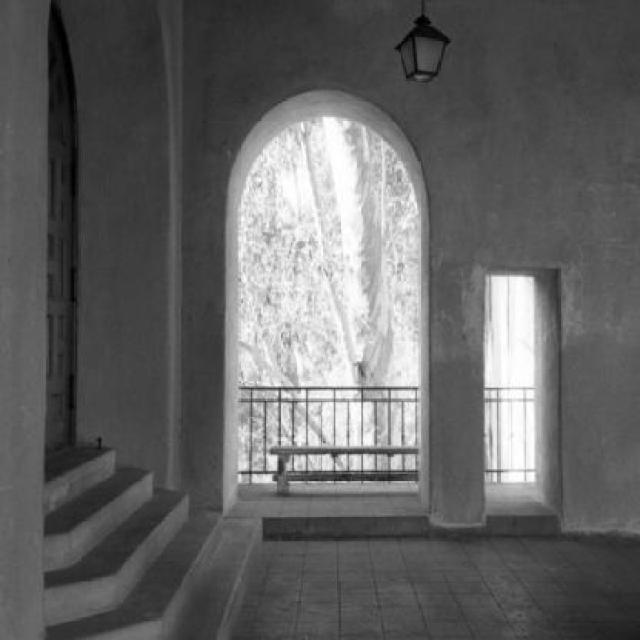stair: (42, 440, 262, 638)
